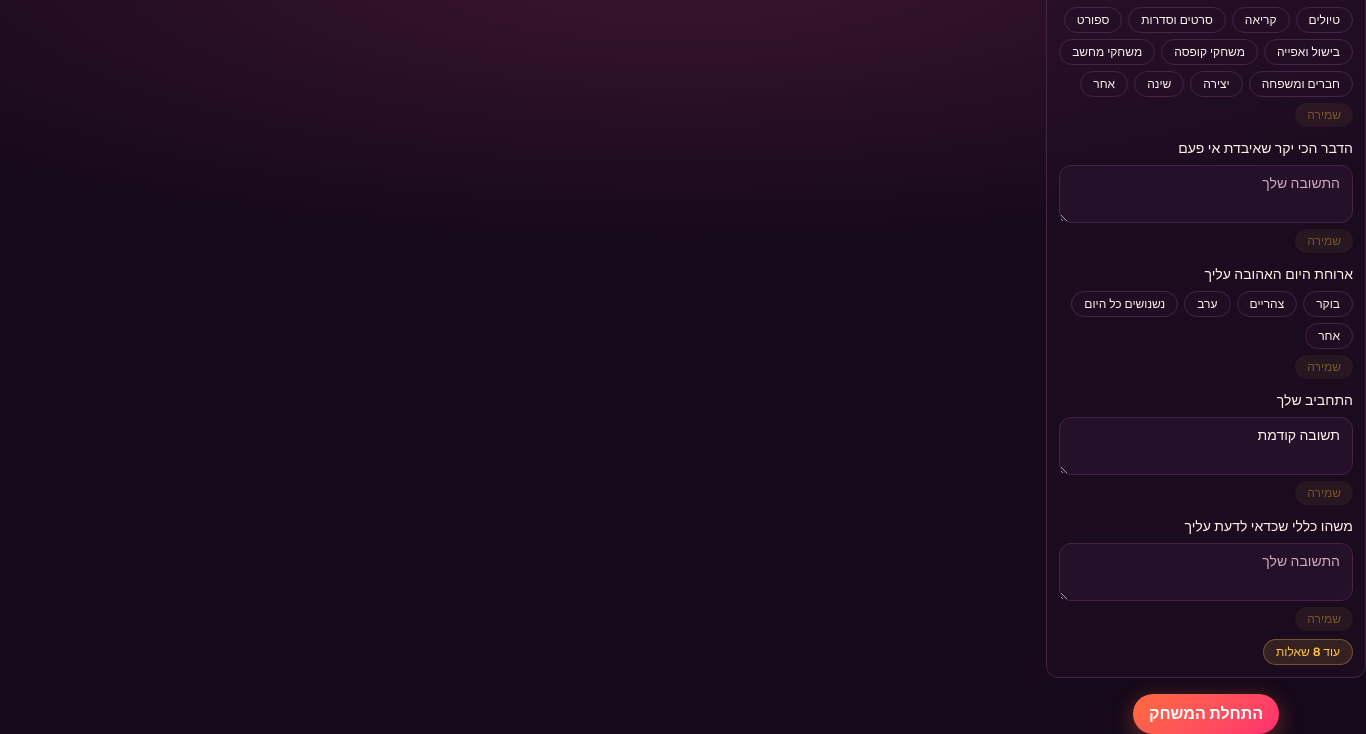
Test: Lobby, starting while somebody has not changed a rejected name › gives them more time, starting nothing
(page scrolled)
Click the button "התחלת המשחק".
click(1206, 714)  # box 1133,694 -> 1279,733
(page scrolled)
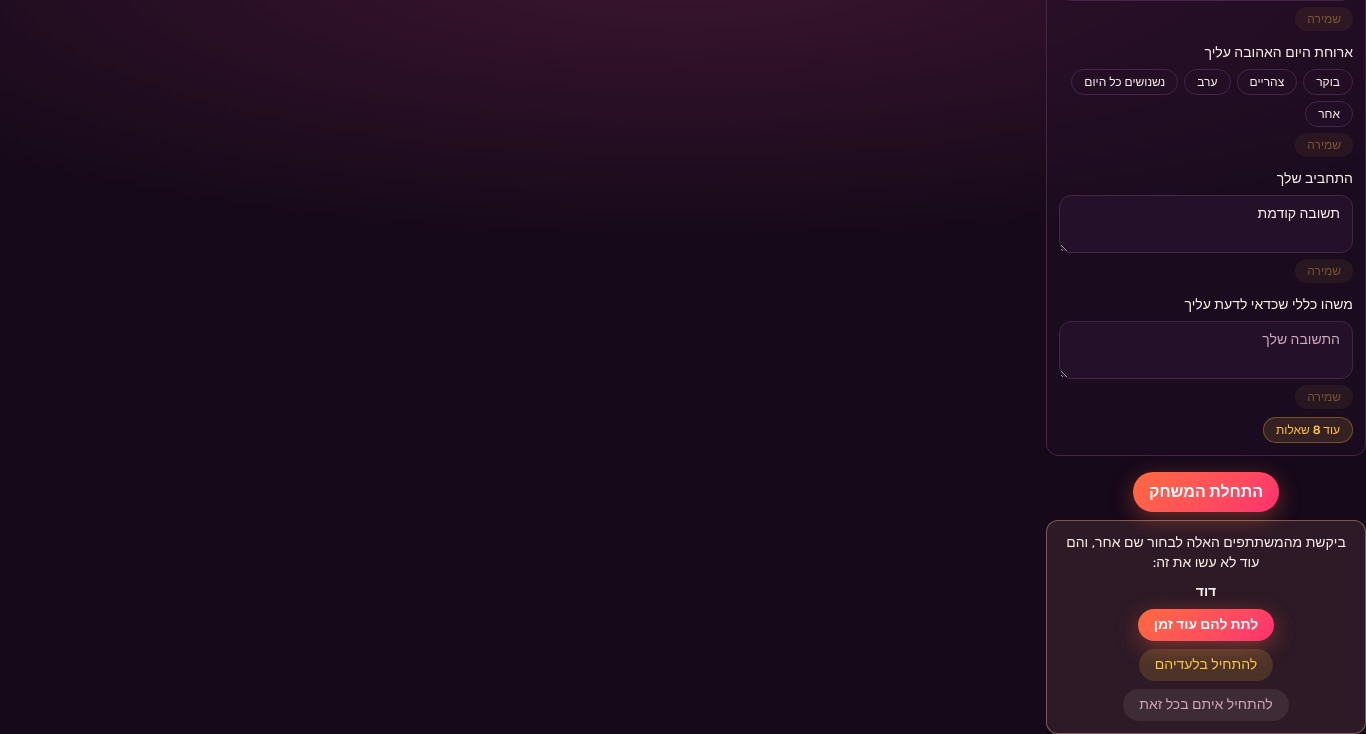
Click the button "לתת להם עוד זמן".
click(1206, 625)  # box 1138,609 -> 1274,641
(page scrolled)
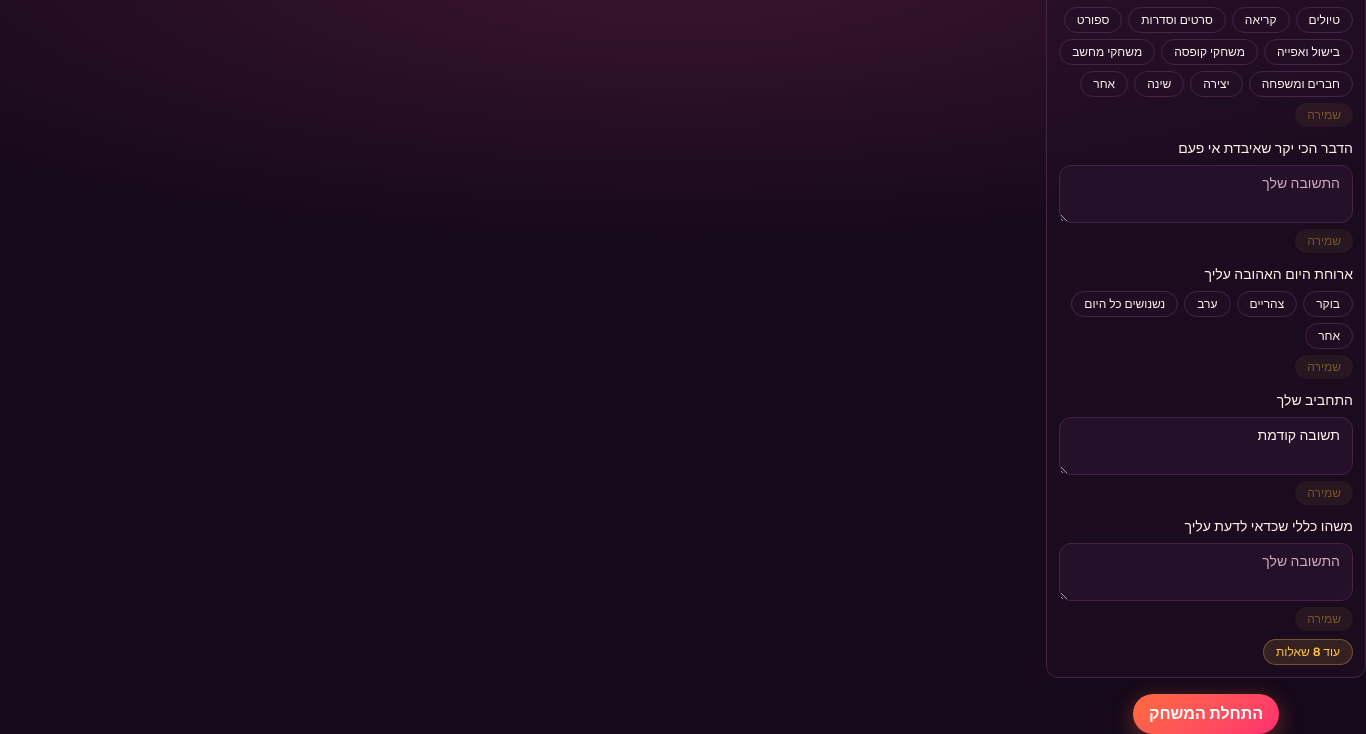
Expected: the button "להתחיל בלעדיהם" is gone
